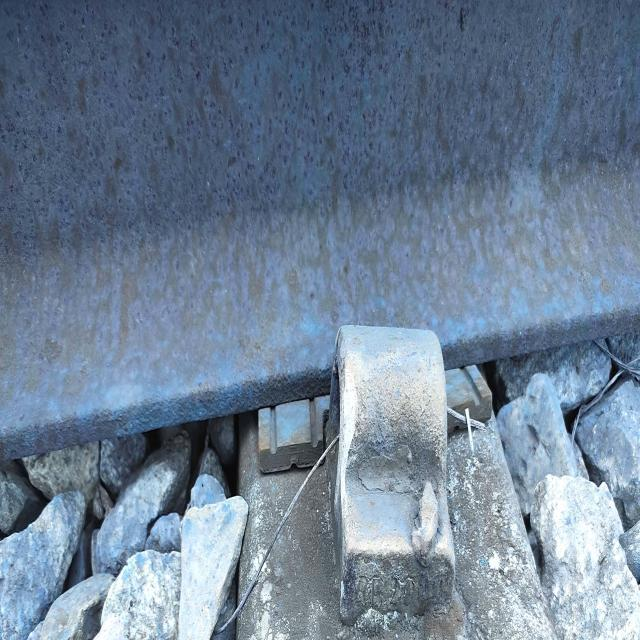Good Fasteners: (258, 281, 486, 640)
